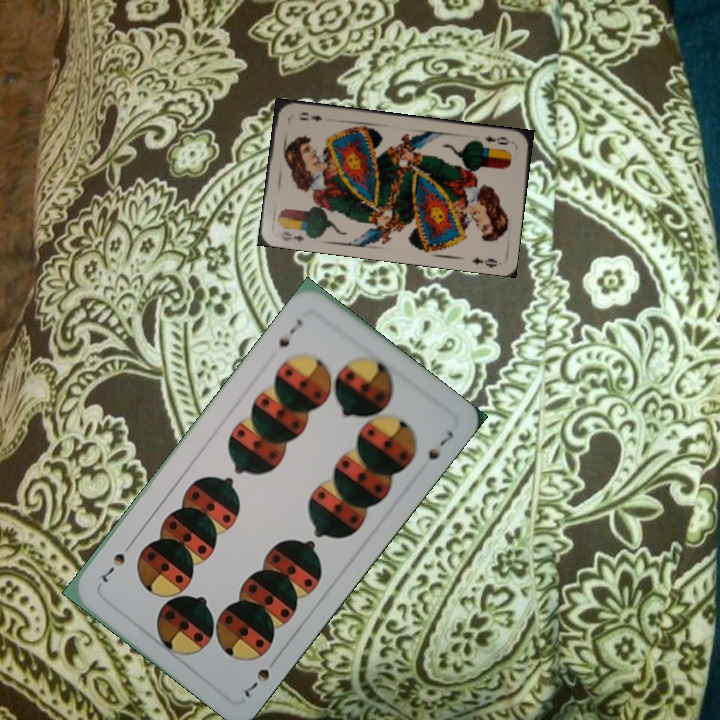EO: (275, 227, 307, 245), (481, 131, 516, 147)
S7: (240, 652, 282, 701), (274, 314, 305, 350)
